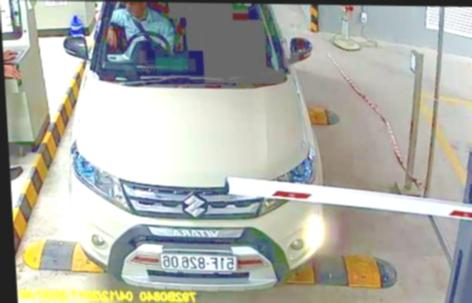License_Plate: (158, 246, 238, 276)
